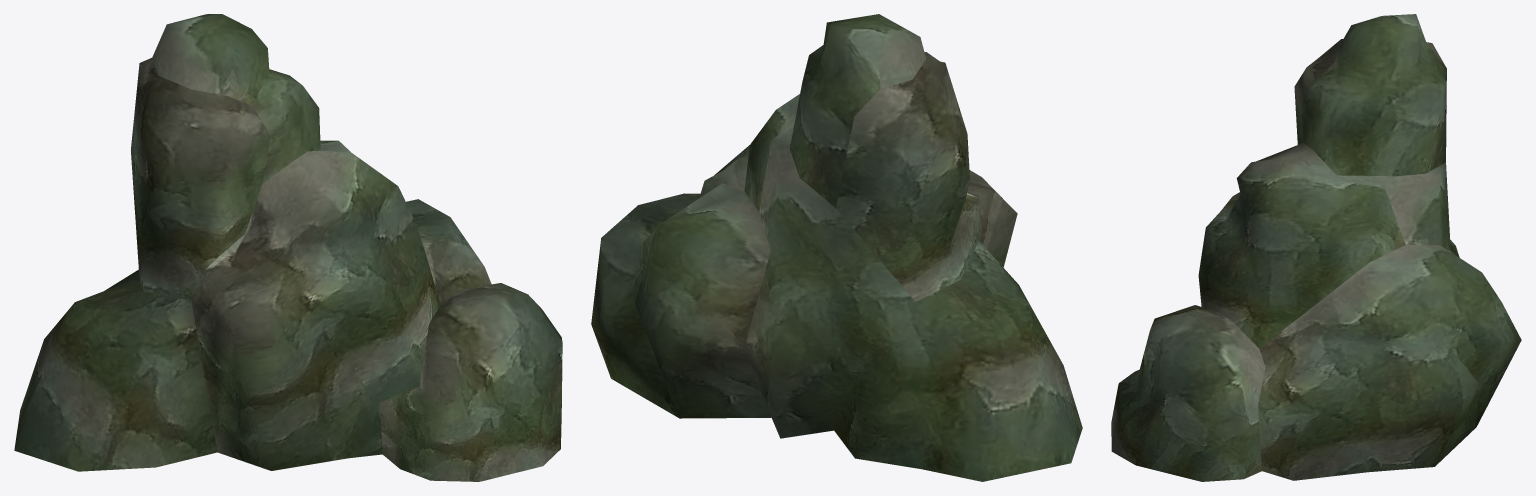
3 views of the same model, side by side, from view 1: azimuth 30°, elevation 25°; view 2: azimuth 150°, elevation 25°; view 3: azimuth 270°, elevation 25° (orthographic). The views are drawn at different scales.
Parts seen in each view (by area): view 1: polySurface2459; view 2: polySurface2459; view 3: polySurface2459.
Part boxes in pixels (box(x1,y1,x2,y2)): polySurface2459: box(14, 14, 562, 481); polySurface2459: box(591, 14, 1082, 481); polySurface2459: box(1111, 14, 1521, 481).
Bounding box in the file's own units: 9.75 × 7.77 × 8.31.
